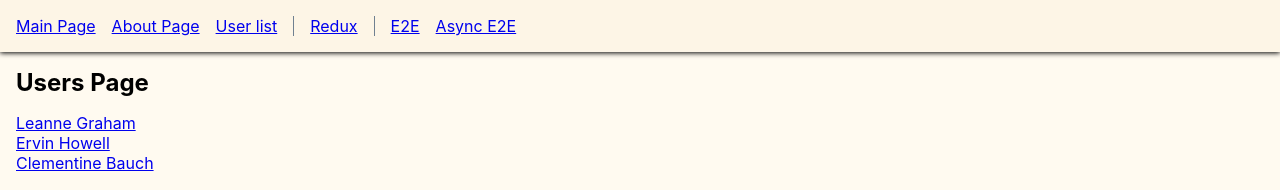
it: Users Tests :>> › Navigation to User Page
Click the link with test id "user-item" showing "Leanne Graham" at (76,123), box [16,113,136,133]
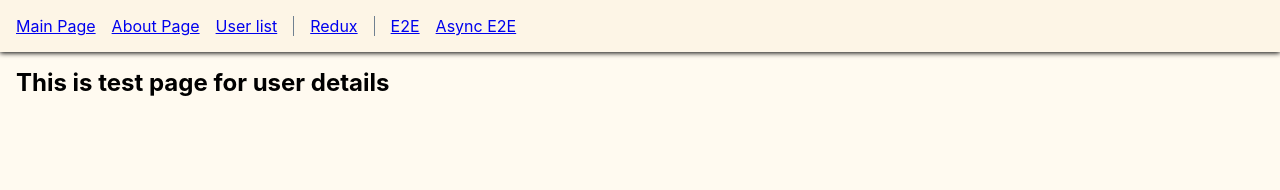
Result: the heading "This is test page for user details" is shown at [16,68,390,97]
